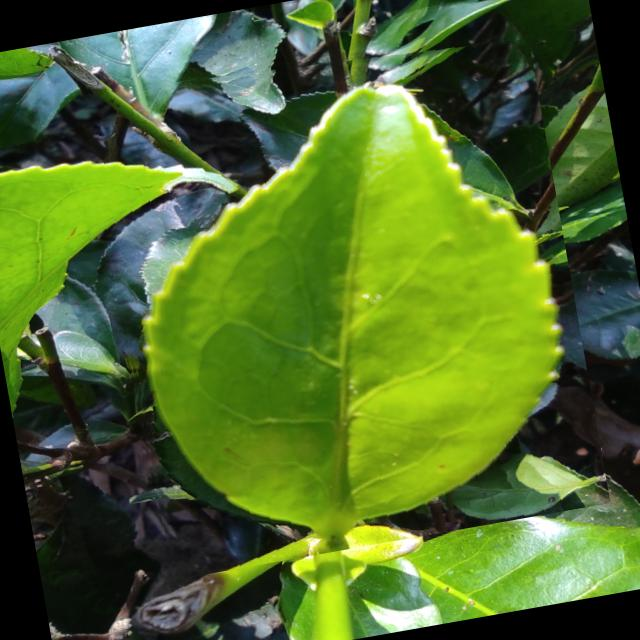Category C(4-7 days): (80, 15, 610, 581)
